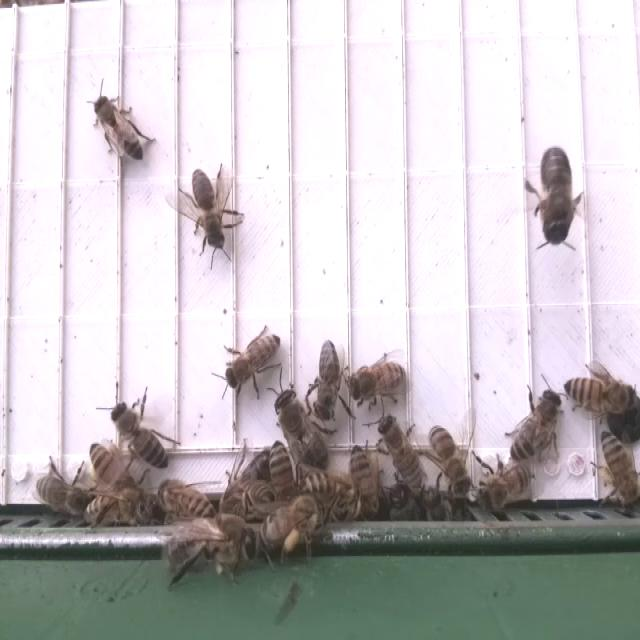Drone: (273, 386, 335, 471), (534, 141, 578, 251)
Worker: (108, 394, 174, 474), (218, 325, 287, 400), (418, 422, 481, 497), (590, 425, 640, 515), (377, 411, 428, 499), (508, 387, 566, 464), (90, 92, 149, 166), (186, 165, 231, 257), (349, 348, 413, 410), (560, 370, 640, 418), (476, 450, 536, 514), (33, 470, 96, 522), (310, 332, 344, 428), (156, 475, 220, 522)
